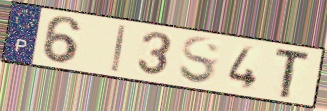3: (134, 31, 174, 78)
4: (225, 44, 260, 92)
6: (40, 15, 84, 67)
I: (109, 23, 128, 74)
S: (177, 35, 222, 87)
T: (273, 48, 314, 100)
